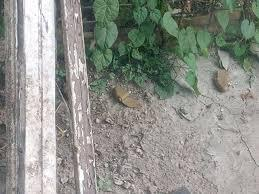PMF 1: (112, 85, 140, 108)
